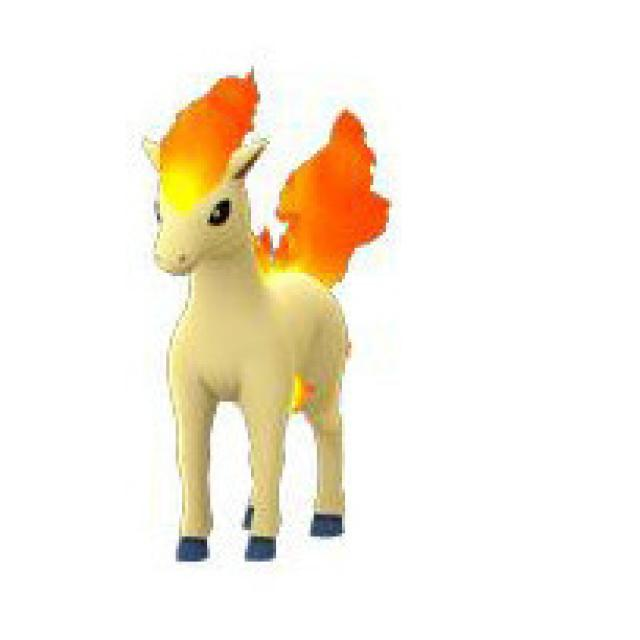Ponyta: (117, 80, 359, 577)
